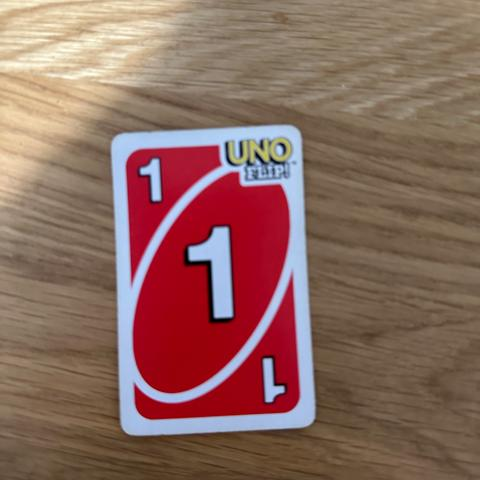lred-1: (120, 144, 190, 213)
